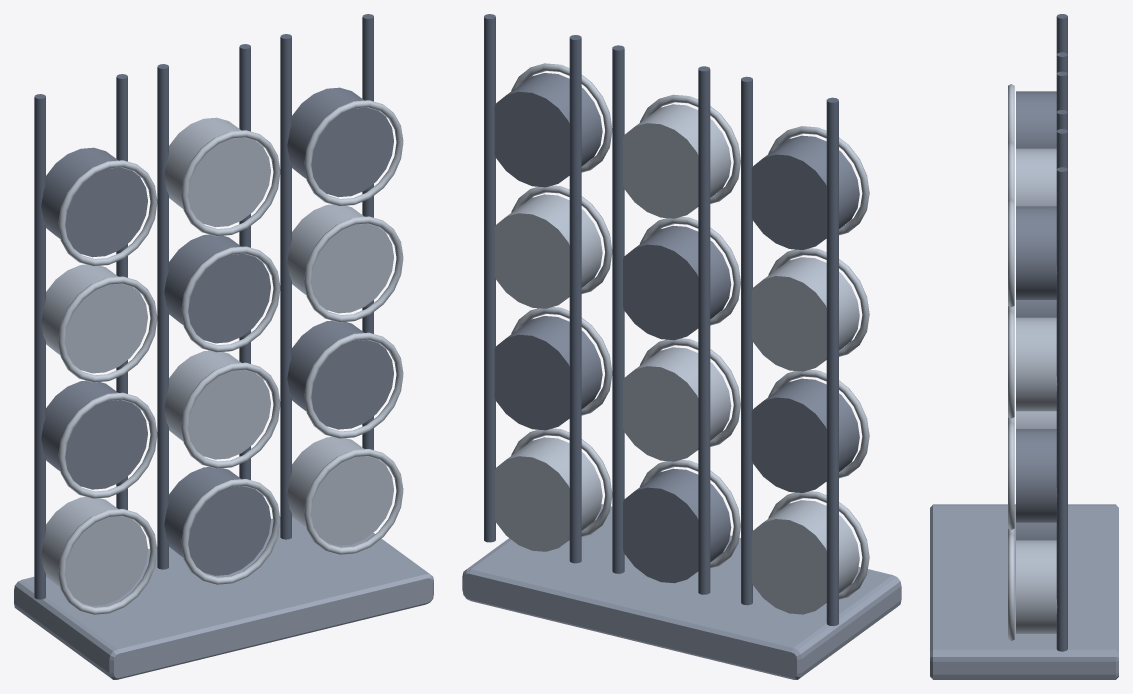
File: capsule-rack-lite.glb
3 views of the same model, side by side, from view 1: azimuth 30°, elevation 25°; view 2: azimuth 150°, elevation 25°; view 3: azimuth 270°, elevation 25° (orthographic). The views are drawn at different scales.
Visible parts, largest first — view 1: accent, soft, body, light, dark; view 2: soft, accent, dark, body, light; view 3: body, accent, soft, dark, light.
Part boxes in pixels (x1=…): accent: x1=41, y1=87, x2=393, y2=575; soft: x1=41, y1=117, x2=393, y2=605; body: x1=14, y1=517, x2=433, y2=679; light: x1=58, y1=100, x2=403, y2=614; dark: x1=34, y1=14, x2=373, y2=599; soft: x1=494, y1=104, x2=859, y2=614; accent: x1=494, y1=73, x2=859, y2=583; dark: x1=484, y1=14, x2=838, y2=626; body: x1=462, y1=504, x2=901, y2=679; light: x1=511, y1=63, x2=869, y2=599; body: x1=930, y1=504, x2=1118, y2=679; accent: x1=1016, y1=91, x2=1057, y2=540; soft: x1=1016, y1=148, x2=1057, y2=633; dark: x1=1056, y1=14, x2=1067, y2=651; light: x1=1008, y1=84, x2=1014, y2=641.
Size of the model in its own units: 0.202 by 0.3 by 0.1.
